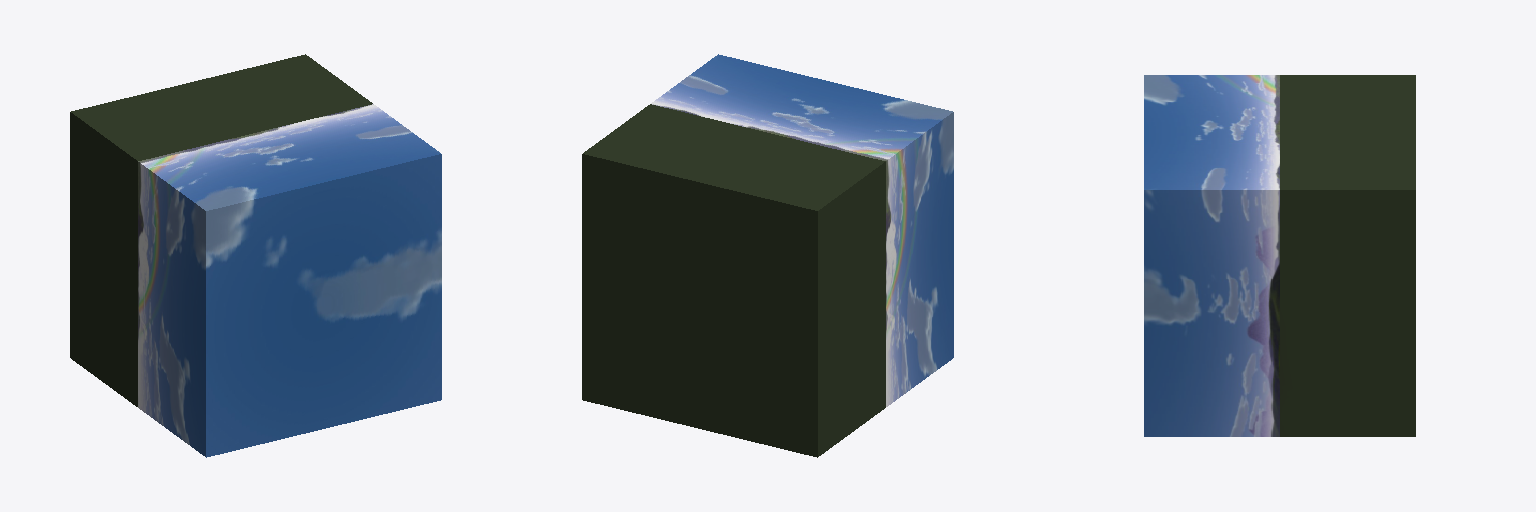
3 renders of one model, left to right at view 1: azimuth 30°, elevation 25°; view 2: azimuth 150°, elevation 25°; view 3: azimuth 270°, elevation 25°, orthographic.
Parts seen in each view (by area): view 1: Cube.001; view 2: Cube.001; view 3: Cube.001.
Part boxes in pixels (bbox=[...]): Cube.001: bbox=[70, 54, 441, 457]; Cube.001: bbox=[582, 54, 953, 457]; Cube.001: bbox=[1144, 75, 1415, 436].
Size of the model in its own units: 200 by 200 by 200.
Materials: 6 (6 with a texture image).